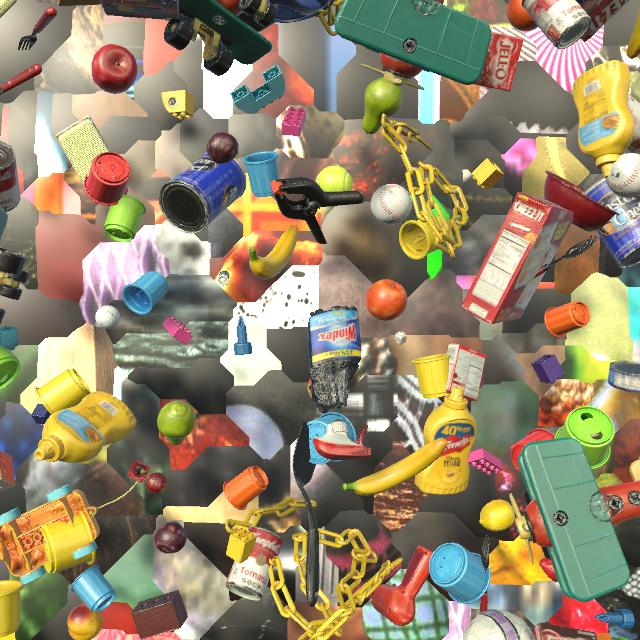ycb_002_master_chef_can: (159, 152, 247, 234), (583, 178, 640, 268)
ycb_003_cracker_box: (462, 192, 574, 324), (580, 0, 630, 42)
ycb_005_tomato_soup_can: (225, 526, 283, 601), (521, 0, 592, 50), (0, 141, 21, 212), (628, 93, 640, 153)
ycb_006_mustard_bottle: (35, 391, 136, 463), (573, 60, 634, 179), (414, 386, 477, 495)
ycb_007_tuna_fish_can: (608, 360, 640, 394)
ycb_008_pudding_box: (532, 622, 597, 640)
ycb_009_gelatin_box: (473, 32, 524, 91), (445, 343, 486, 401)
ycb_011_banana: (342, 438, 447, 496), (248, 225, 298, 279), (626, 6, 640, 59)
ycb_012_strawberry: (539, 558, 558, 582)
ycb_013_apple: (91, 44, 138, 94)
ycb_014_lemon: (479, 500, 515, 531)
ycb_015_peach: (67, 604, 103, 640), (307, 379, 313, 399)
ycb_016_pear: (362, 77, 403, 134), (157, 401, 196, 445)
ycb_017_orange: (365, 279, 407, 321), (507, 0, 538, 32)
ycb_018_plum: (154, 521, 187, 554), (206, 132, 239, 164)
